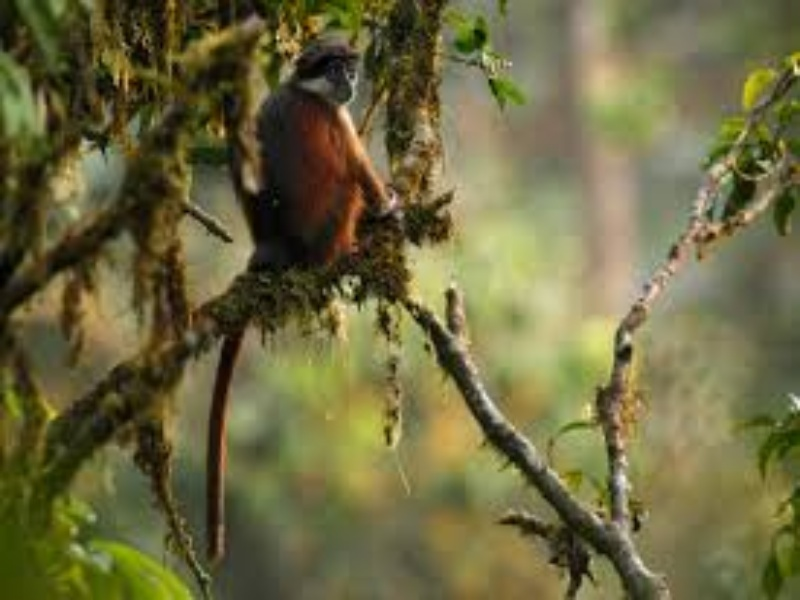monkey: (217, 32, 409, 283)
